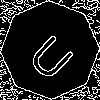U: (25, 25, 84, 84)
